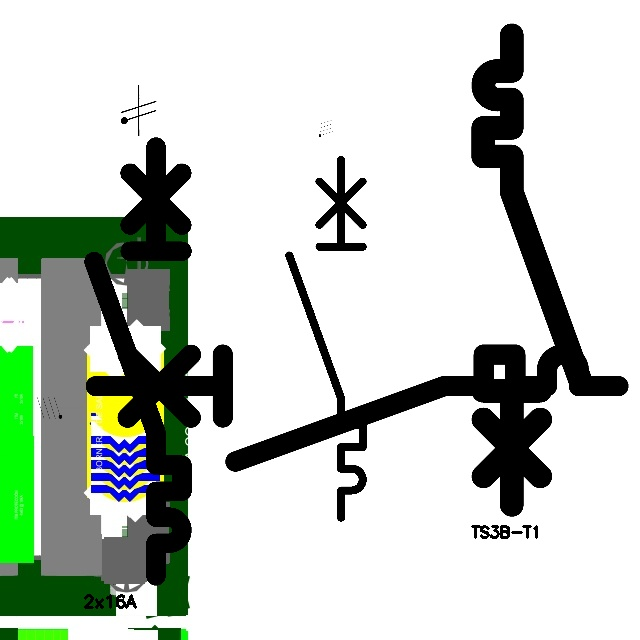interruptor_termomagnetico: (82, 341, 631, 475), (471, 23, 592, 517), (83, 136, 193, 587), (280, 150, 372, 527)
